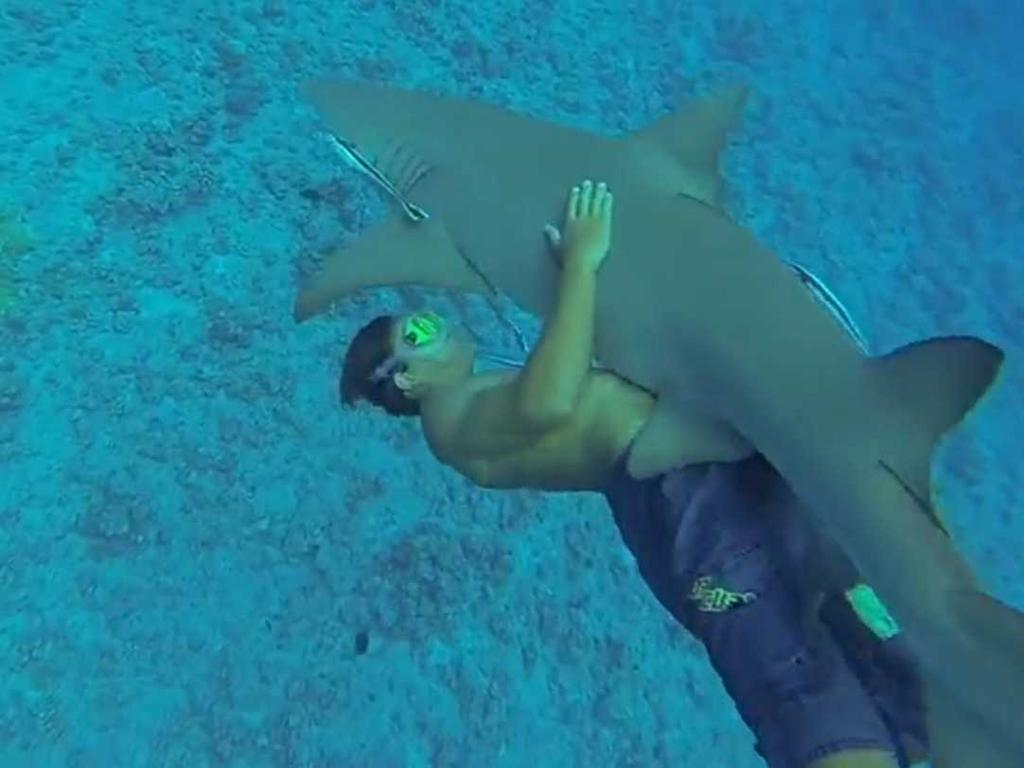face: (398, 310, 476, 366)
